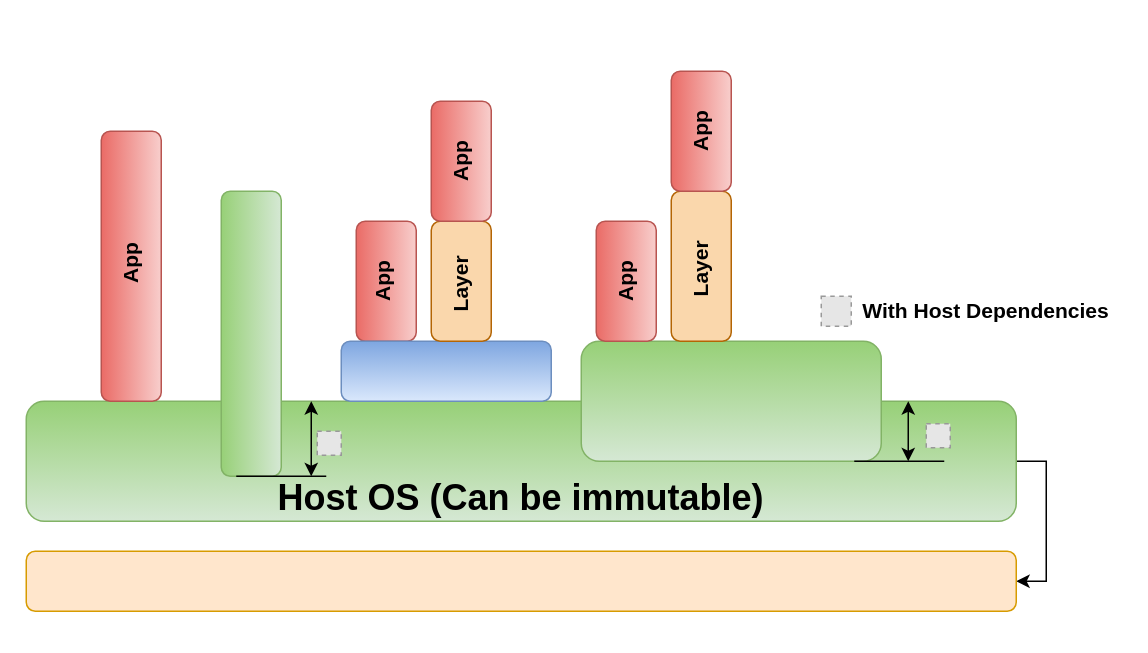
The diagram is 1148 pixels wide and 653 high, and some of its shapes have lost their labels. Grey dashed boxes stand in for pictures. Each missing label, with the centre of its shape:
"Base" goes at pixel 445 370.
"Compatible App" goes at pixel 250 333.
"Compatible Base" goes at pixel 730 400.
"Hardware" goes at pixel 520 580.
